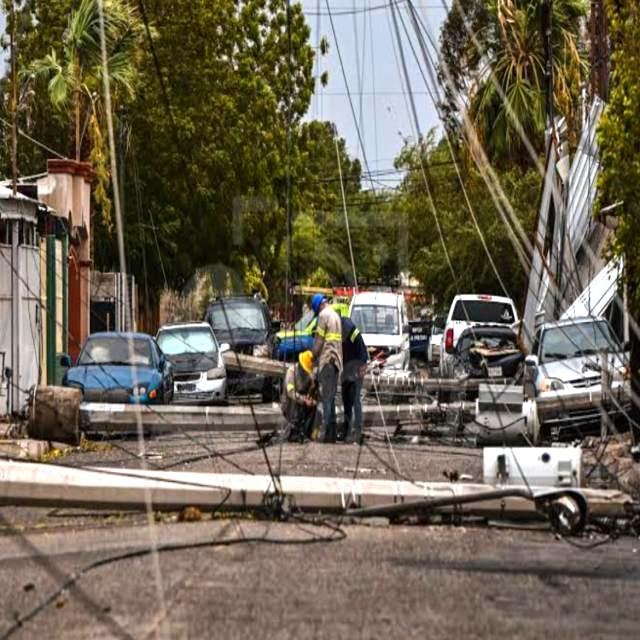Broken Pole: (27, 342, 613, 452), (0, 441, 639, 540)
